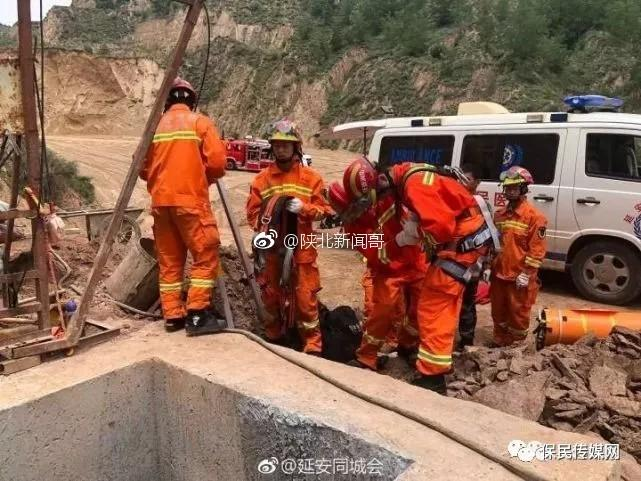helmet: (343, 157, 380, 205), (327, 178, 354, 217), (266, 118, 304, 144), (167, 80, 201, 105), (499, 166, 535, 187)
